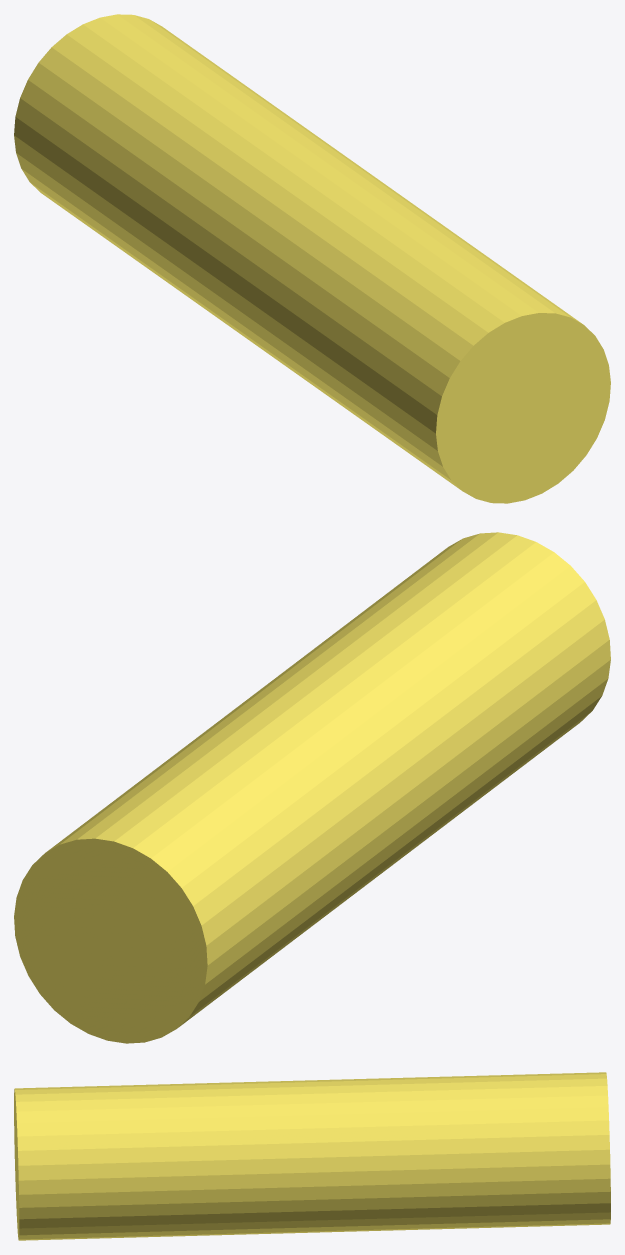
The model's file is penne_3d.glb.
The picture shows the model from 3 angles, top to bottom: view 1: azimuth 30°, elevation 25°; view 2: azimuth 150°, elevation 25°; view 3: azimuth 270°, elevation 25°; orthographic projection. The views are drawn at different scales.
Visible parts, largest first — view 1: Cylinder; view 2: Cylinder; view 3: Cylinder.
Boxes of the visible parts, box(x1,y1,x2,y2) form: Cylinder: box(14, 14, 610, 503); Cylinder: box(14, 532, 610, 1043); Cylinder: box(14, 1072, 610, 1240).
Bounding box in the file's own units: 0.3076 × 0.2902 × 1.07.
1 material, 1 textured.
